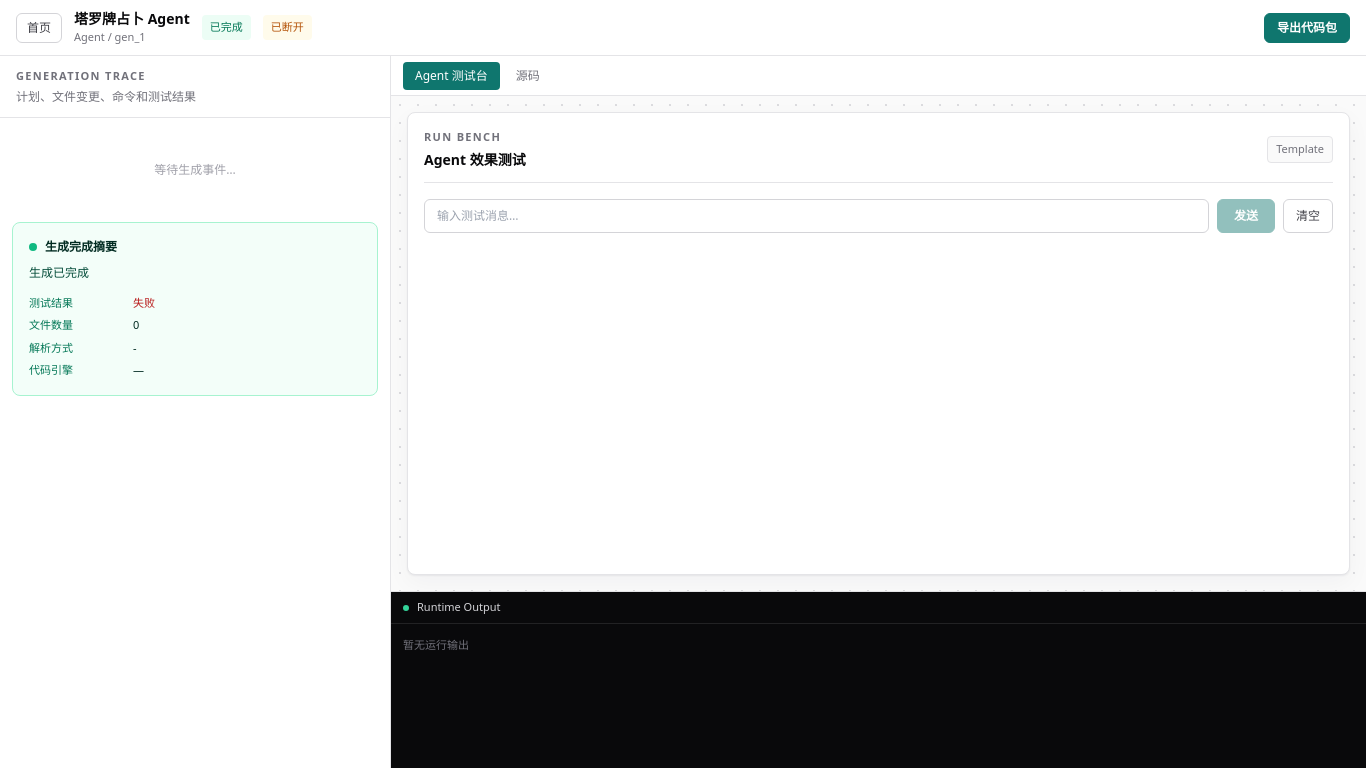
it: GenerationWorkspace (Phase 7 §11.2 #4/#6) › switches to the source tab and shows the file tree
expect the element with test id "agent-test-panel" is shown: met, box [407,112,1350,575]
Click the button with test id "tab-source": (528, 76) [504,62,552,90]
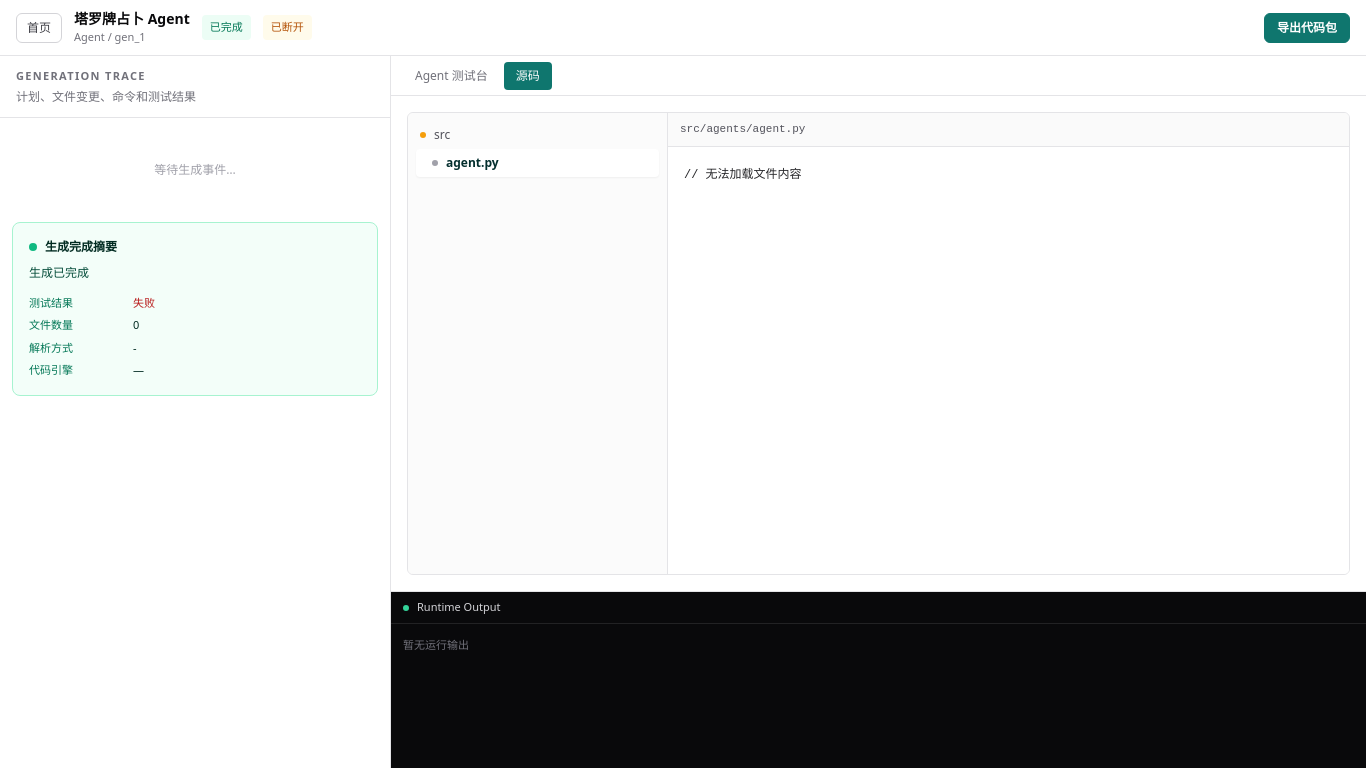
expect the element with test id "filetree" is shown: met, box [408,113,667,185]
